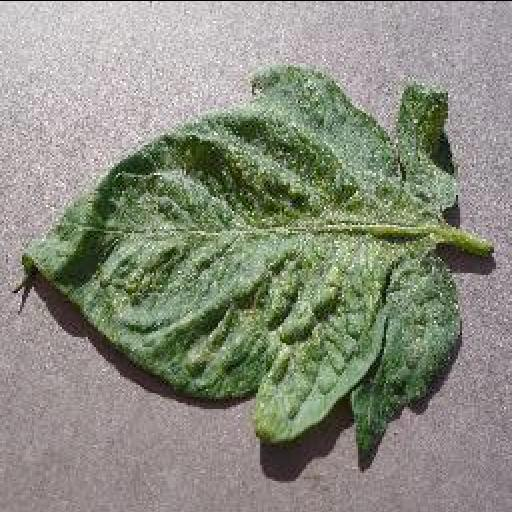disease_tomato: (20, 66, 466, 468)
